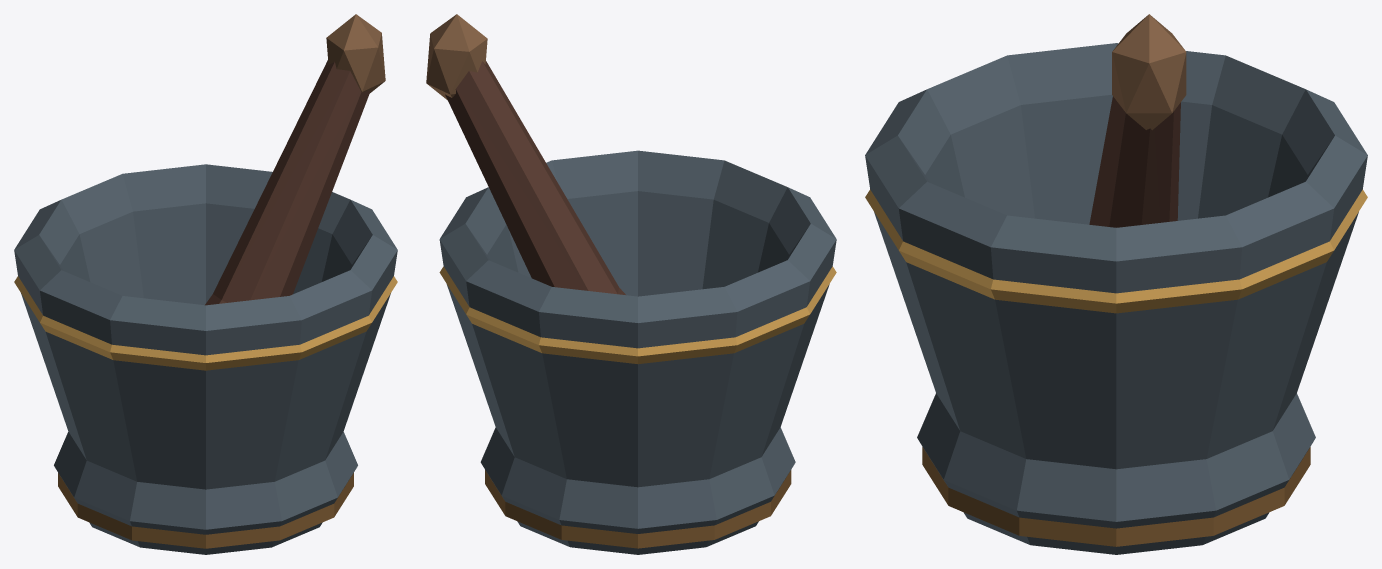
The model's file is mortar_pestle.glb.
3 renders of one model, left to right at view 1: azimuth 30°, elevation 25°; view 2: azimuth 150°, elevation 25°; view 3: azimuth 270°, elevation 25°, orthographic. The views are drawn at different scales.
Parts seen in each view (by area): view 1: SM_Magic_MortarPestle; view 2: SM_Magic_MortarPestle; view 3: SM_Magic_MortarPestle.
Boxes of the visible parts, left/top/right/bottom form: SM_Magic_MortarPestle: left=14, top=14, right=397, bottom=554; SM_Magic_MortarPestle: left=426, top=14, right=836, bottom=554; SM_Magic_MortarPestle: left=865, top=14, right=1367, bottom=554.
Size of the model in its own units: 0.1963 by 0.231 by 0.184.
Materials: 2 (2 with a texture image).
